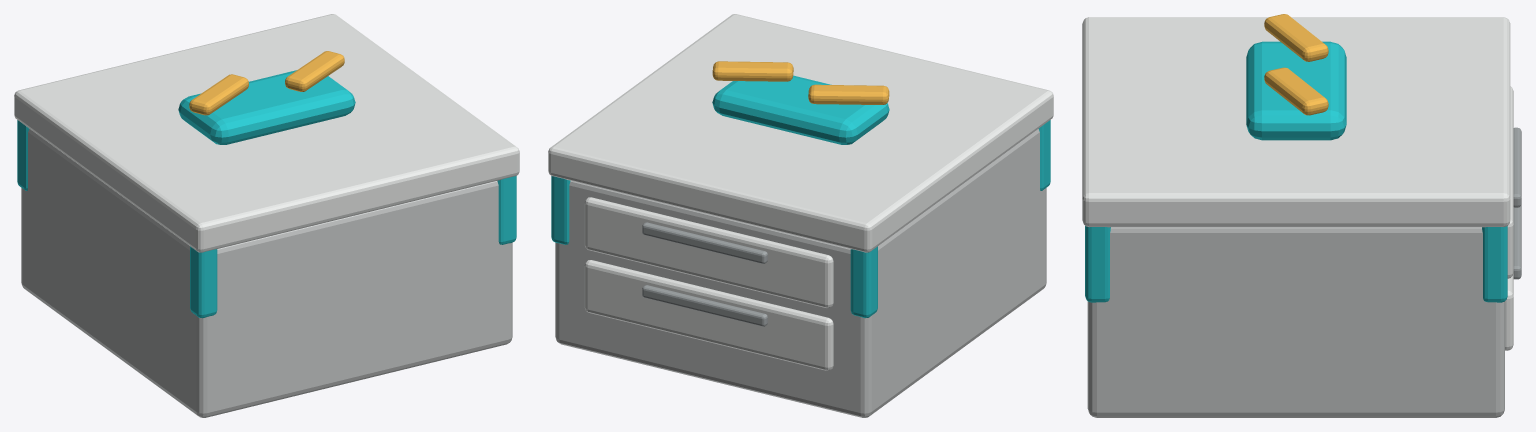
The model's file is RecoveryBin.fbx.
3 views of the same model, side by side, from view 1: azimuth 30°, elevation 25°; view 2: azimuth 150°, elevation 25°; view 3: azimuth 270°, elevation 25° (orthographic). The views are drawn at different scales.
Visible parts, largest first — view 1: MAT_Steel Geometry.008, MAT_SteelLight Geometry.007, MAT_Teal Geometry.006, MAT_Ochre Geometry.004; view 2: MAT_SteelLight Geometry.007, MAT_Steel Geometry.008, MAT_Teal Geometry.006, MAT_SteelDark Geometry.007, MAT_Ochre Geometry.004; view 3: MAT_SteelLight Geometry.007, MAT_Steel Geometry.008, MAT_Teal Geometry.006, MAT_Ochre Geometry.004, MAT_SteelDark Geometry.007.
Boxes of the visible parts, x1,y1,x2,y2 form: MAT_Steel Geometry.008: (21, 129, 512, 417); MAT_SteelLight Geometry.007: (14, 14, 519, 252); MAT_Teal Geometry.006: (17, 70, 516, 318); MAT_Ochre Geometry.004: (189, 51, 344, 115); MAT_SteelLight Geometry.007: (548, 14, 1053, 370); MAT_Steel Geometry.008: (555, 129, 1046, 417); MAT_Teal Geometry.006: (551, 75, 1050, 318); MAT_SteelDark Geometry.007: (642, 222, 767, 326); MAT_Ochre Geometry.004: (712, 61, 889, 104); MAT_SteelLight Geometry.007: (1082, 17, 1513, 350); MAT_Steel Geometry.008: (1087, 227, 1504, 417); MAT_Teal Geometry.006: (1085, 41, 1507, 302); MAT_Ochre Geometry.004: (1264, 14, 1328, 115); MAT_SteelDark Geometry.007: (1513, 127, 1521, 279).
Bounding box in the file's own units: 162 × 115 × 166.
